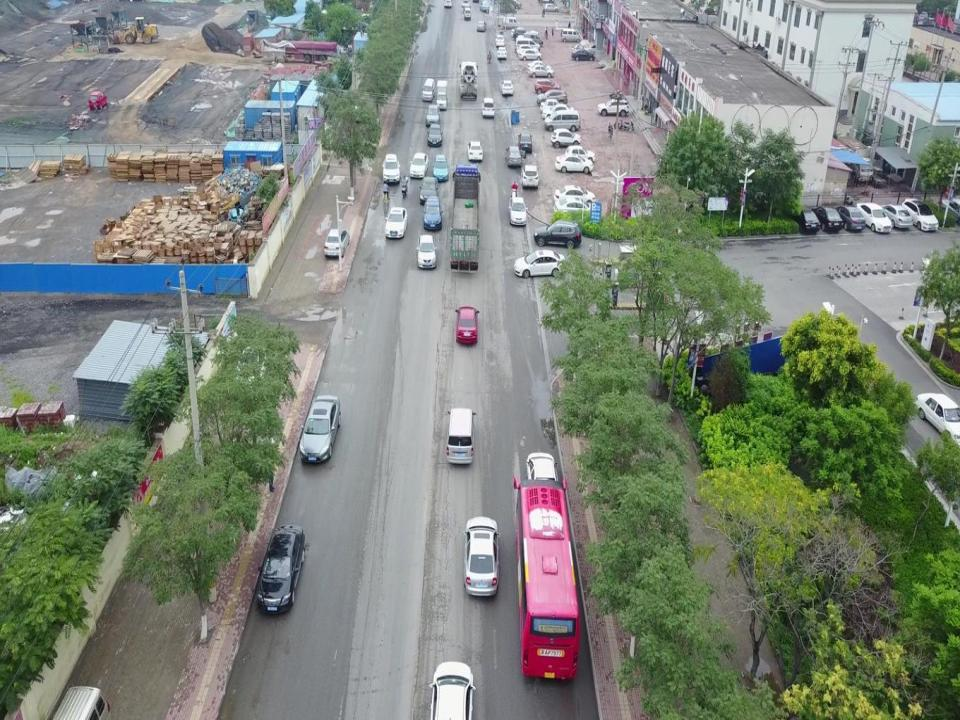bus: (513, 476, 580, 680), (436, 81, 448, 110)
car: (257, 524, 305, 612), (427, 660, 475, 720), (464, 516, 500, 596), (299, 394, 340, 462), (915, 392, 960, 443), (526, 451, 558, 507), (515, 248, 565, 278), (534, 219, 582, 250), (901, 198, 940, 230), (856, 202, 892, 233), (785, 204, 819, 233), (554, 185, 596, 207), (877, 204, 913, 229), (456, 306, 480, 343), (810, 206, 842, 232), (832, 206, 864, 232), (554, 152, 593, 173), (416, 234, 437, 270), (324, 229, 349, 259), (554, 197, 592, 216), (386, 207, 408, 238), (596, 97, 630, 117), (422, 196, 442, 229), (939, 195, 960, 224), (551, 128, 581, 148), (418, 176, 438, 204), (509, 196, 527, 227), (565, 145, 596, 163), (382, 154, 400, 184), (542, 104, 575, 120), (536, 89, 567, 106), (432, 154, 449, 182), (410, 152, 428, 178), (534, 79, 560, 95), (88, 91, 108, 111), (505, 146, 525, 166), (427, 123, 443, 146), (522, 164, 538, 187), (518, 30, 541, 45), (425, 104, 440, 126), (528, 64, 553, 77), (570, 48, 595, 61), (467, 141, 483, 160), (527, 62, 552, 74), (541, 99, 564, 112), (467, 140, 482, 159), (518, 132, 532, 152), (518, 49, 543, 60), (511, 28, 532, 40), (517, 44, 539, 55), (513, 30, 533, 42), (501, 80, 513, 95), (613, 118, 624, 132), (622, 120, 634, 132), (496, 46, 507, 58), (462, 4, 472, 16), (544, 3, 559, 11), (477, 21, 487, 32), (479, 1, 489, 11), (496, 34, 504, 46), (443, 0, 451, 8), (462, 0, 470, 8)
truck: (450, 161, 481, 270), (284, 41, 360, 69), (838, 134, 873, 184), (116, 16, 160, 44), (459, 61, 478, 99)
van: (446, 407, 477, 466), (544, 112, 580, 132), (515, 36, 540, 52), (421, 78, 435, 102), (481, 97, 495, 118), (560, 28, 580, 42), (524, 33, 543, 46), (502, 17, 520, 29), (464, 7, 471, 19)
